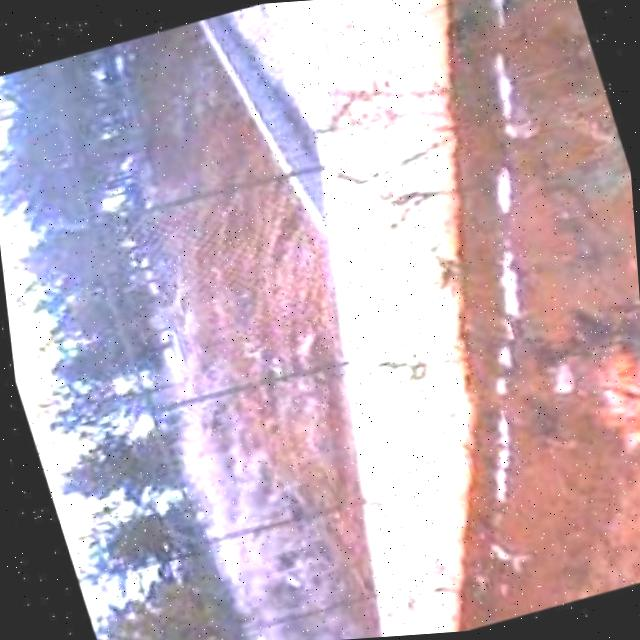fire: (570, 330, 640, 487)
